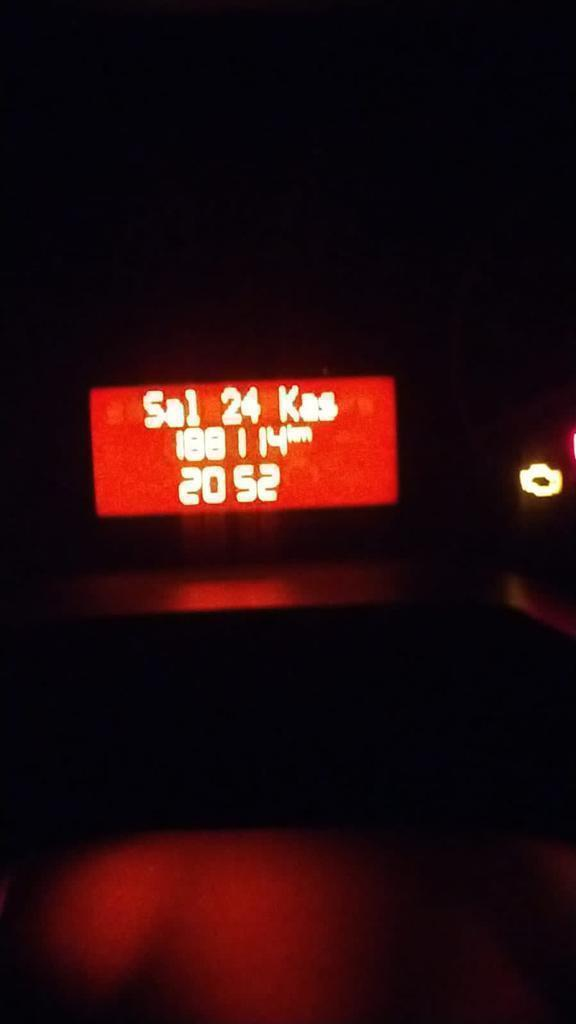0: (201, 465, 226, 504)
1: (174, 429, 184, 462), (237, 426, 247, 459), (257, 426, 267, 457)
2: (176, 465, 202, 505), (256, 463, 281, 502), (220, 386, 242, 425)
4: (240, 386, 261, 424), (268, 425, 287, 456)
5: (232, 463, 256, 502)
8: (204, 426, 226, 461), (184, 427, 204, 461)
X: (141, 390, 164, 429), (277, 384, 299, 423), (318, 391, 339, 422), (164, 397, 185, 427), (185, 387, 201, 426), (298, 391, 318, 422), (298, 425, 312, 443), (287, 423, 298, 443)
odometer: (87, 373, 400, 520)
